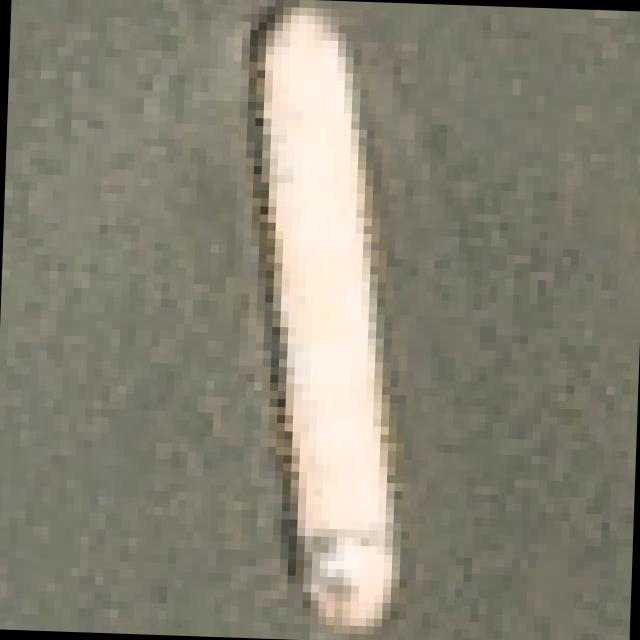ship: (166, 0, 492, 640)
